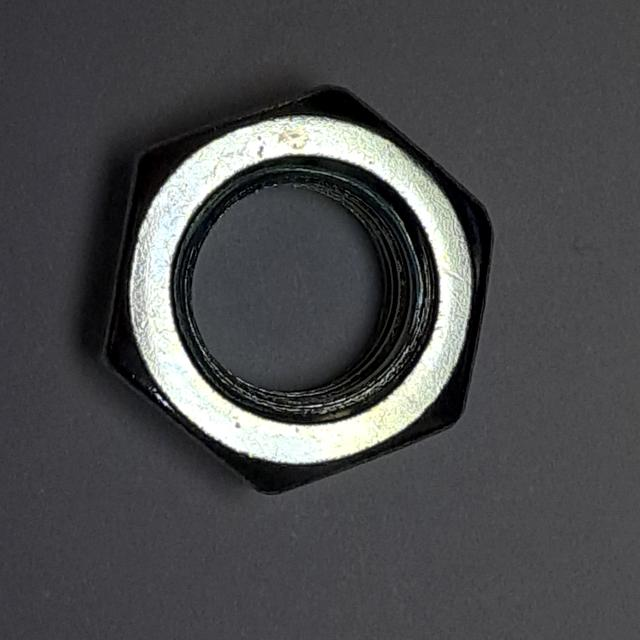Excellent: (87, 64, 505, 514)
